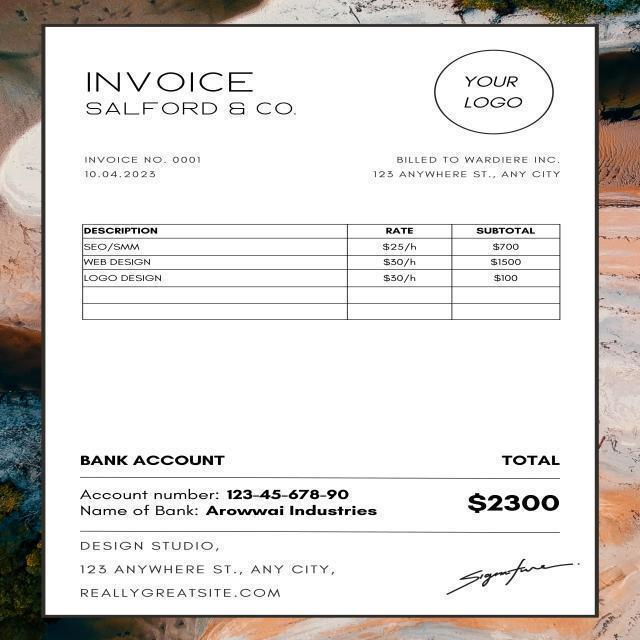paragraph: (67, 441, 381, 523), (70, 532, 356, 606), (424, 50, 563, 133), (448, 437, 583, 522), (358, 140, 572, 190), (424, 541, 588, 601), (81, 61, 272, 96), (76, 99, 300, 127), (77, 150, 216, 187)
table: (68, 218, 564, 312)
